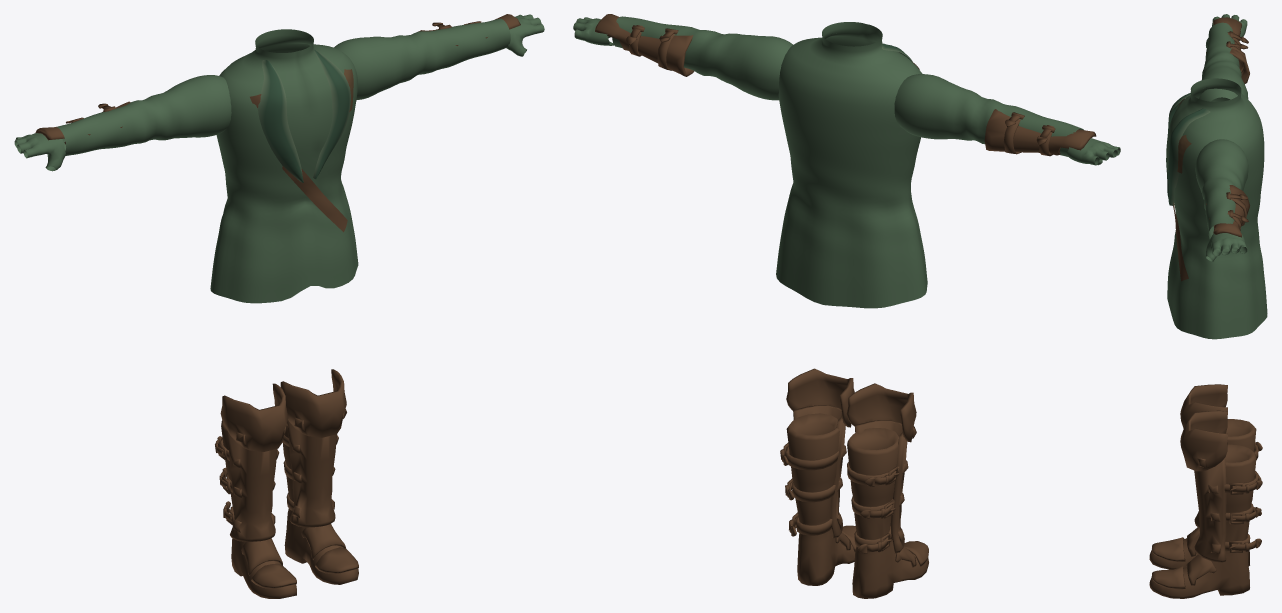
The model's file is scout-attire-f0ec80c8d457.glb.
3 views of the same model, side by side, from view 1: azimuth 30°, elevation 25°; view 2: azimuth 150°, elevation 25°; view 3: azimuth 270°, elevation 25° (orthographic). The views are drawn at different scales.
Parts seen in each view (by area): view 1: SM_Hero_Body_scout, SM_Hero_Boots_scout, SM_Hero_Sleeves_scout, SM_Hero_Lapel_L_scout, SM_Hero_Lapel_R_scout, SM_Hero_Harness_scout, SM_Hero_Bracers_scout; view 2: SM_Hero_Body_scout, SM_Hero_Boots_scout, SM_Hero_Sleeves_scout, SM_Hero_Bracers_scout; view 3: SM_Hero_Body_scout, SM_Hero_Boots_scout, SM_Hero_Sleeves_scout, SM_Hero_Bracers_scout, SM_Hero_Lapel_R_scout, SM_Hero_Harness_scout, SM_Hero_ShoulderYoke_scout, SM_Hero_Lapel_L_scout.
Part boxes in pixels (<box>): SM_Hero_Body_scout: <box>210,29,358,303</box>; SM_Hero_Boots_scout: <box>215,369,358,598</box>; SM_Hero_Sleeves_scout: <box>14,14,544,171</box>; SM_Hero_Lapel_L_scout: <box>257,59,303,182</box>; SM_Hero_Lapel_R_scout: <box>313,49,350,179</box>; SM_Hero_Harness_scout: <box>250,94,347,232</box>; SM_Hero_Bracers_scout: <box>35,14,520,144</box>; SM_Hero_Body_scout: <box>776,22,927,308</box>; SM_Hero_Boots_scout: <box>780,368,928,598</box>; SM_Hero_Sleeves_scout: <box>573,16,1120,165</box>; SM_Hero_Bracers_scout: <box>595,14,1096,156</box>; SM_Hero_Body_scout: <box>1166,78,1267,339</box>; SM_Hero_Boots_scout: <box>1149,384,1262,598</box>; SM_Hero_Sleeves_scout: <box>1195,14,1248,261</box>; SM_Hero_Bracers_scout: <box>1206,17,1249,237</box>; SM_Hero_Lapel_R_scout: <box>1168,108,1210,205</box>; SM_Hero_Harness_scout: <box>1173,98,1188,281</box>; SM_Hero_ShoulderYoke_scout: <box>1177,135,1191,173</box>; SM_Hero_Lapel_L_scout: <box>1166,87,1209,198</box>.
Bounding box in the file's own units: 1.66 × 1.6 × 0.3523.
